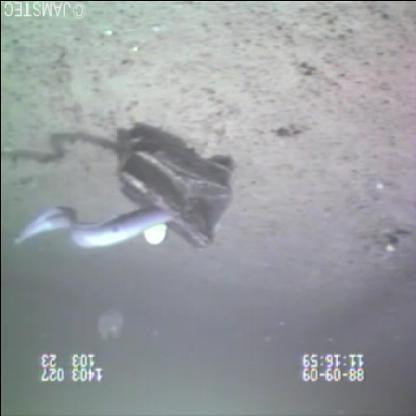Bio: (8, 196, 176, 250)
Rác: (115, 123, 237, 253)
